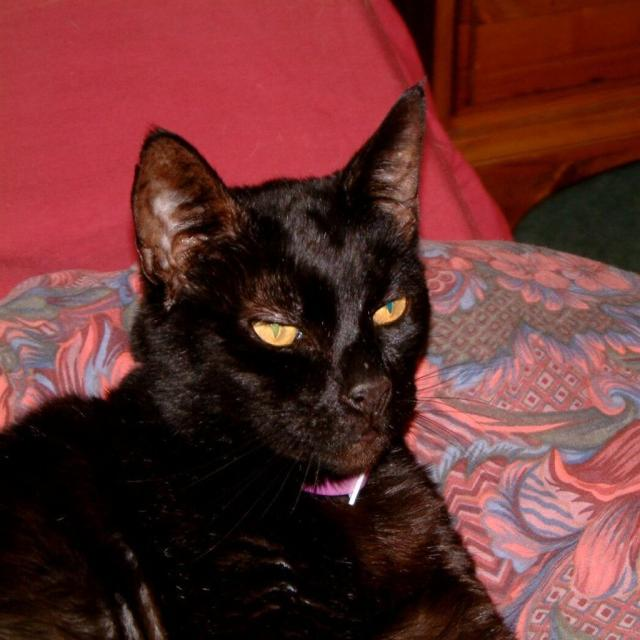Cat: (0, 82, 516, 638)
